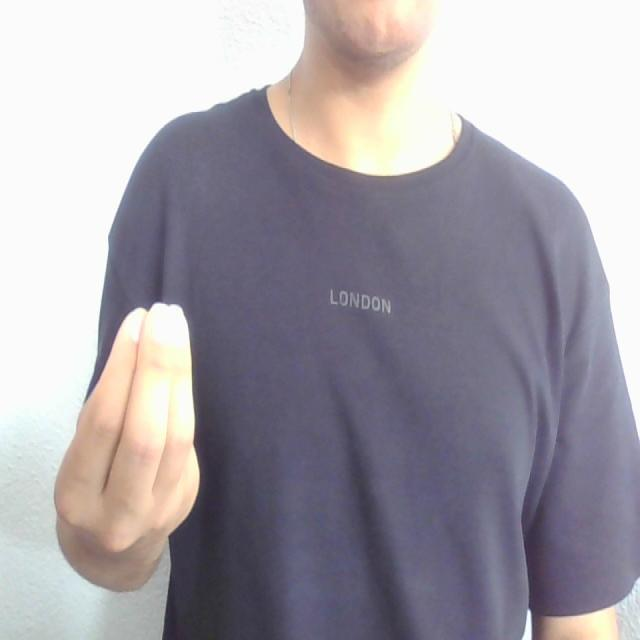iyi: (51, 277, 203, 561)
